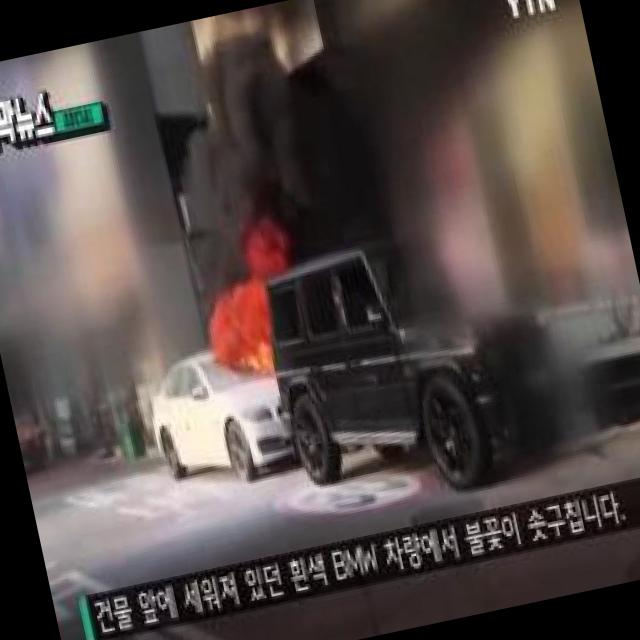Fire: (182, 206, 312, 382)
Smoke: (147, 18, 315, 222)
